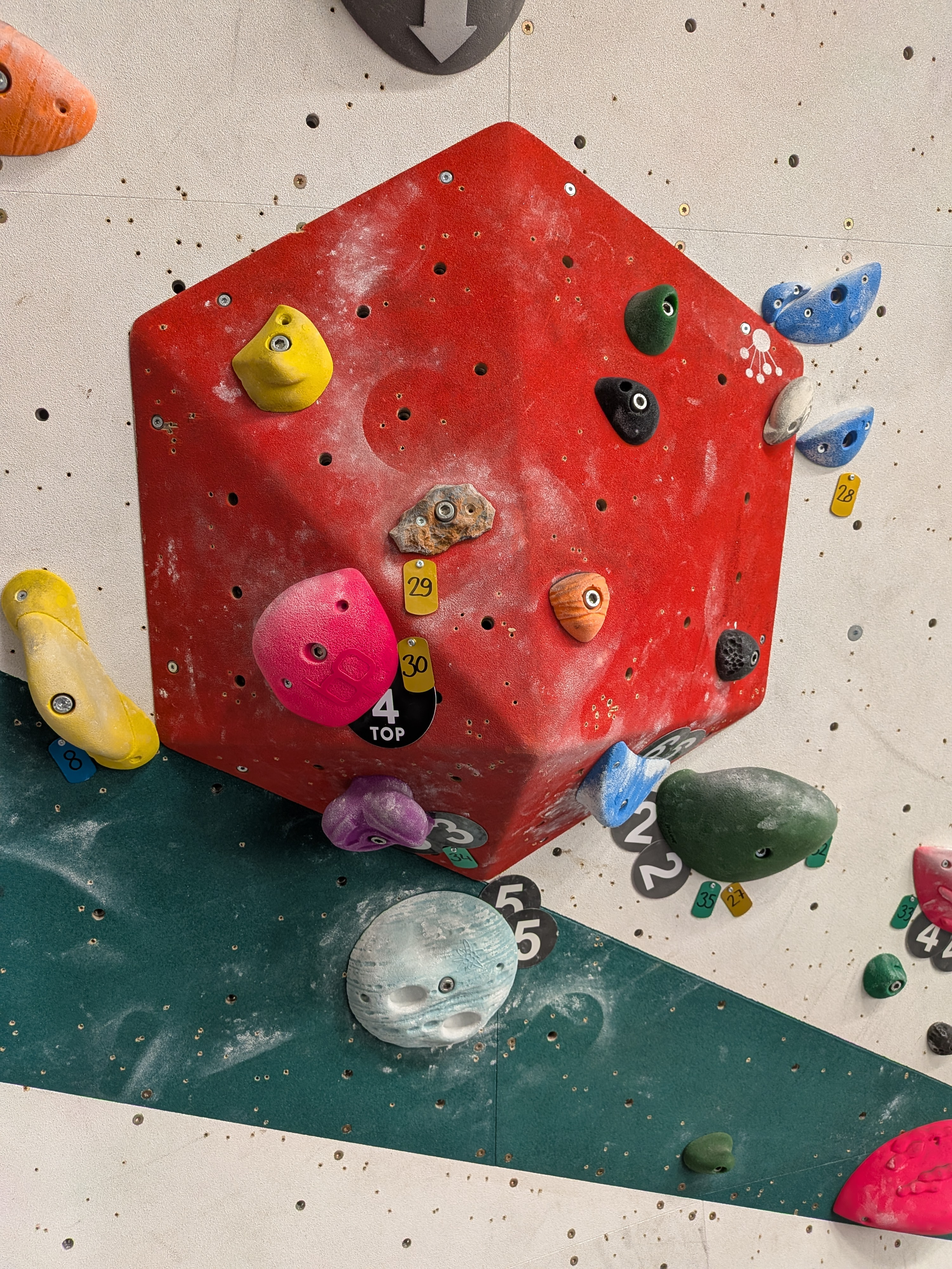hold: (0, 569, 156, 769), (346, 891, 518, 1049), (254, 569, 397, 726), (657, 767, 837, 883), (833, 1120, 952, 1235), (341, 0, 523, 75), (0, 23, 93, 156), (230, 306, 331, 411), (775, 263, 881, 343), (322, 777, 431, 851), (577, 742, 670, 826), (388, 484, 493, 555), (797, 407, 874, 468), (597, 377, 661, 444), (550, 573, 610, 643), (626, 284, 679, 355), (764, 376, 813, 445), (913, 845, 952, 931), (715, 629, 760, 681), (682, 1132, 734, 1174), (761, 281, 810, 324), (863, 953, 907, 998), (927, 1021, 952, 1055)
volume: (128, 115, 806, 886)
